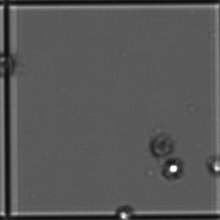Dead Cell: (150, 133, 176, 157), (1, 52, 19, 81)
Living Cell: (163, 159, 183, 176)
